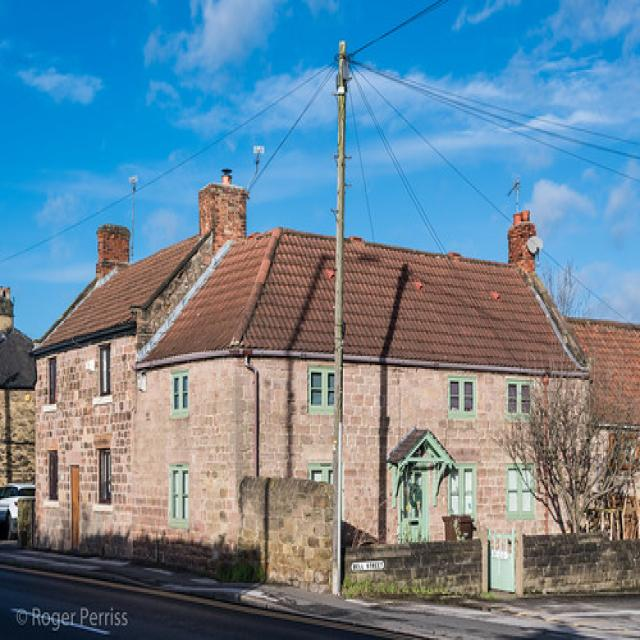building: (26, 182, 583, 582)
